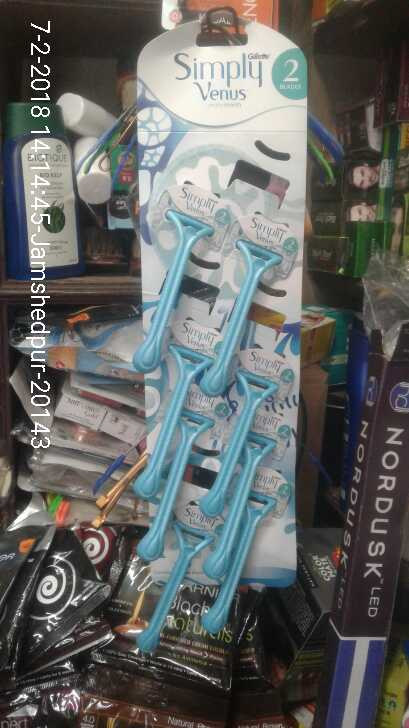reject: (207, 291, 290, 407)
